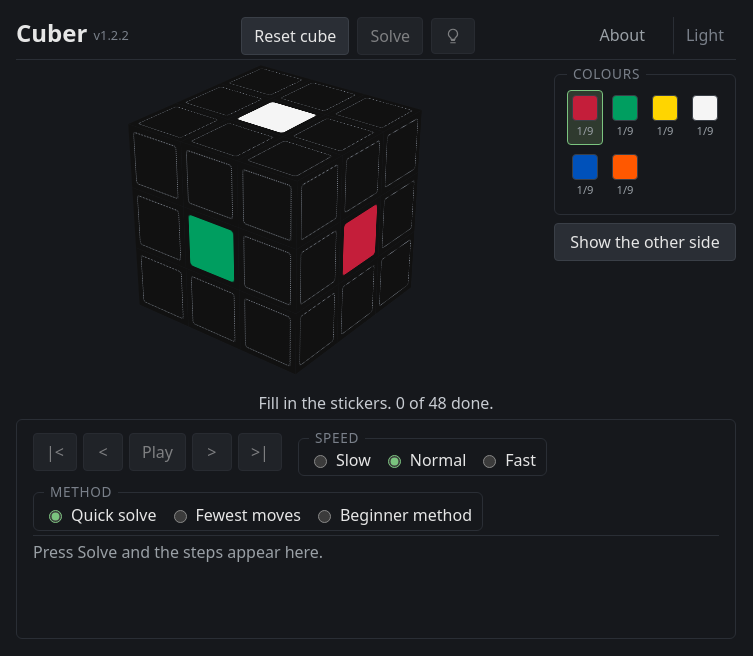
Test: Reset cube › asks once, and the second press clears to the blank cube
The width and height of the screenshot is (753, 656).
What coordinates should you click on to do the following:
click the button named "the top face, row 1, column 1, blank"
I would click on:
 (266, 82)
Its box is [220,65,311,98].
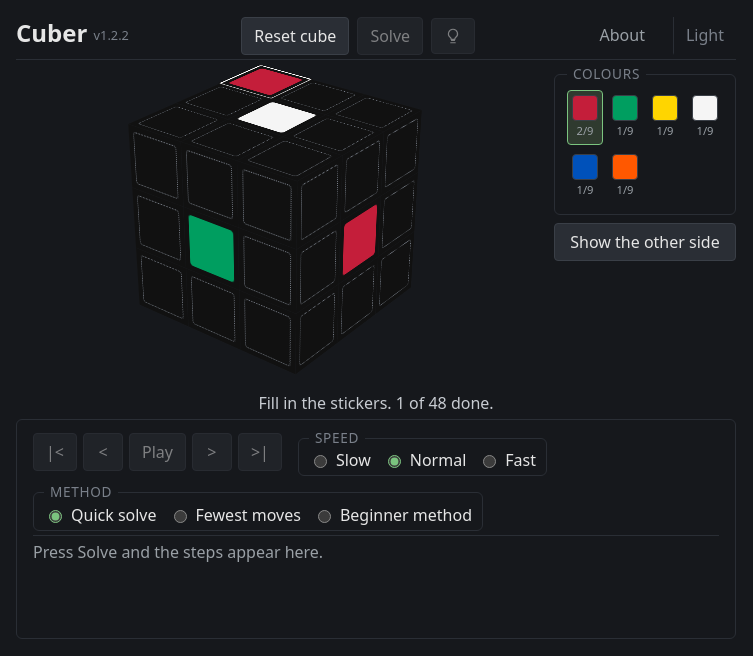
What coordinates should you click on to do the following:
click the button "Reset cube"
I would click on:
 (295, 36)
Its box is [241,17,349,55].
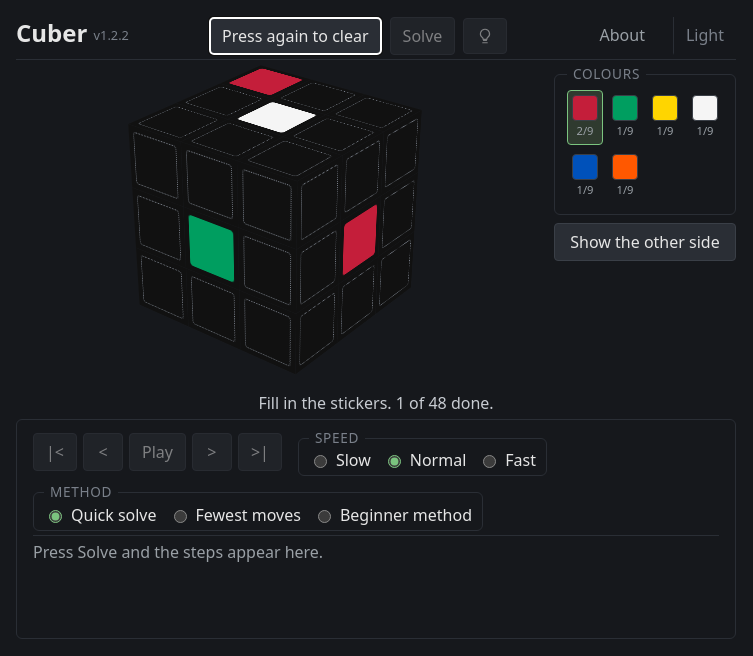
What coordinates should you click on to do the following:
click the button "Press again to clear"
I would click on:
 (295, 36)
Its box is [209,17,382,55].
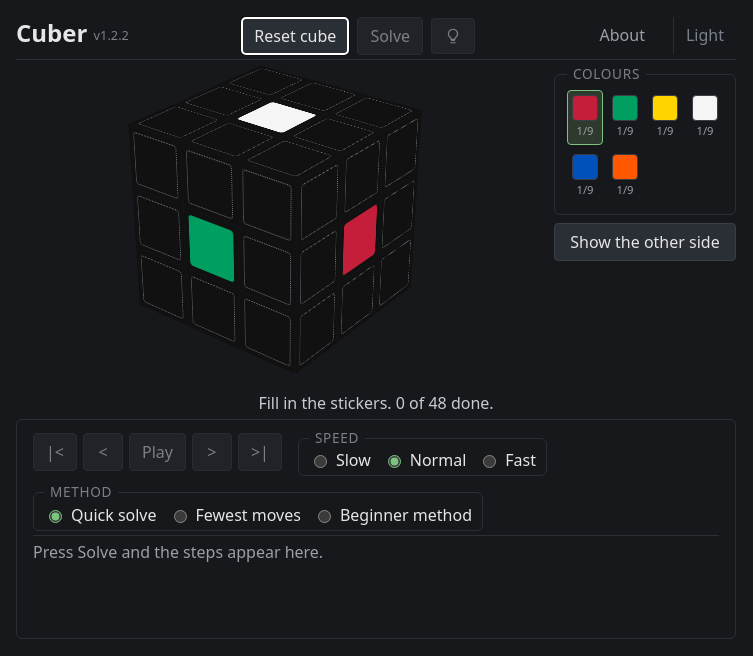
Result: the message reads "Fill in the stickers. 0 of 48 done." at [258,392,494,414]
Result: the button "Reset cube" is shown at [241,17,349,55]
